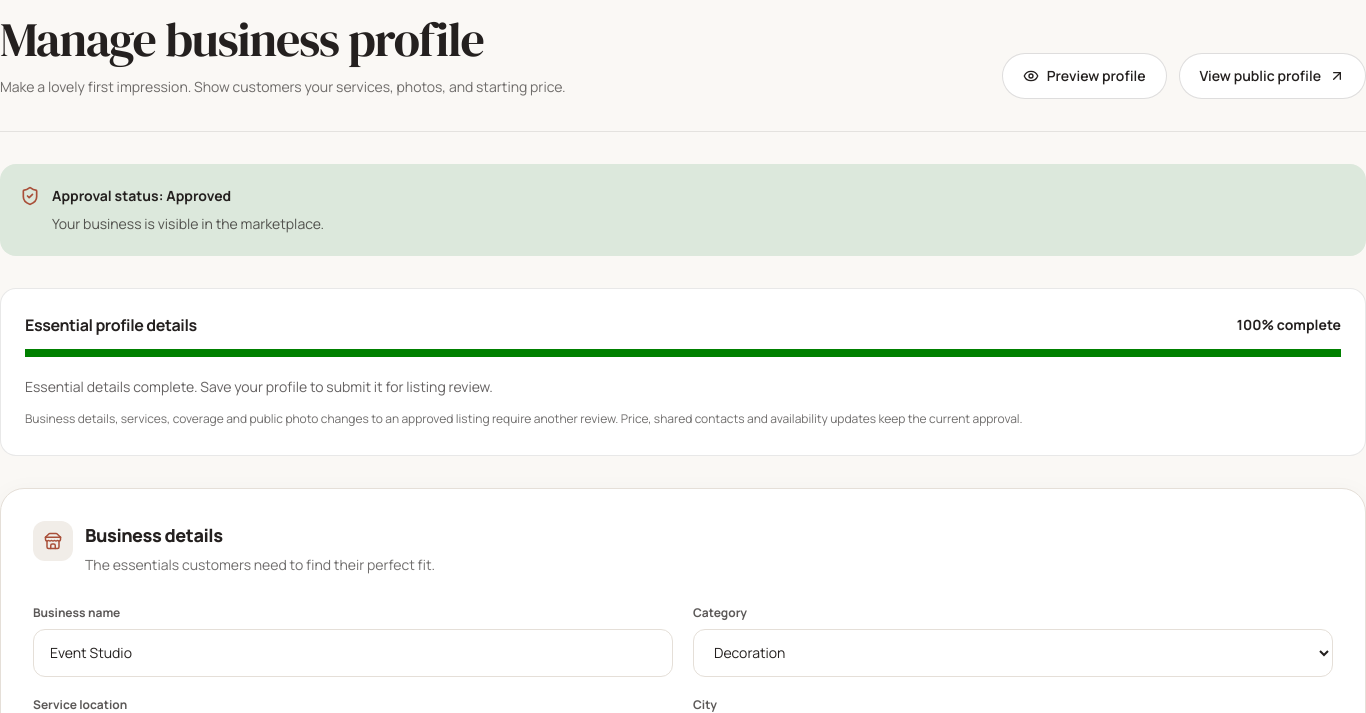
additional marketplace service categories › lets an existing vendor change their category to Reel Creator & Editor
Select "Reel Creator & Editor" in the dropdown labelled "Category" at [1013, 652], box x1=693 y1=628 x2=1333 y2=676
(page scrolled)
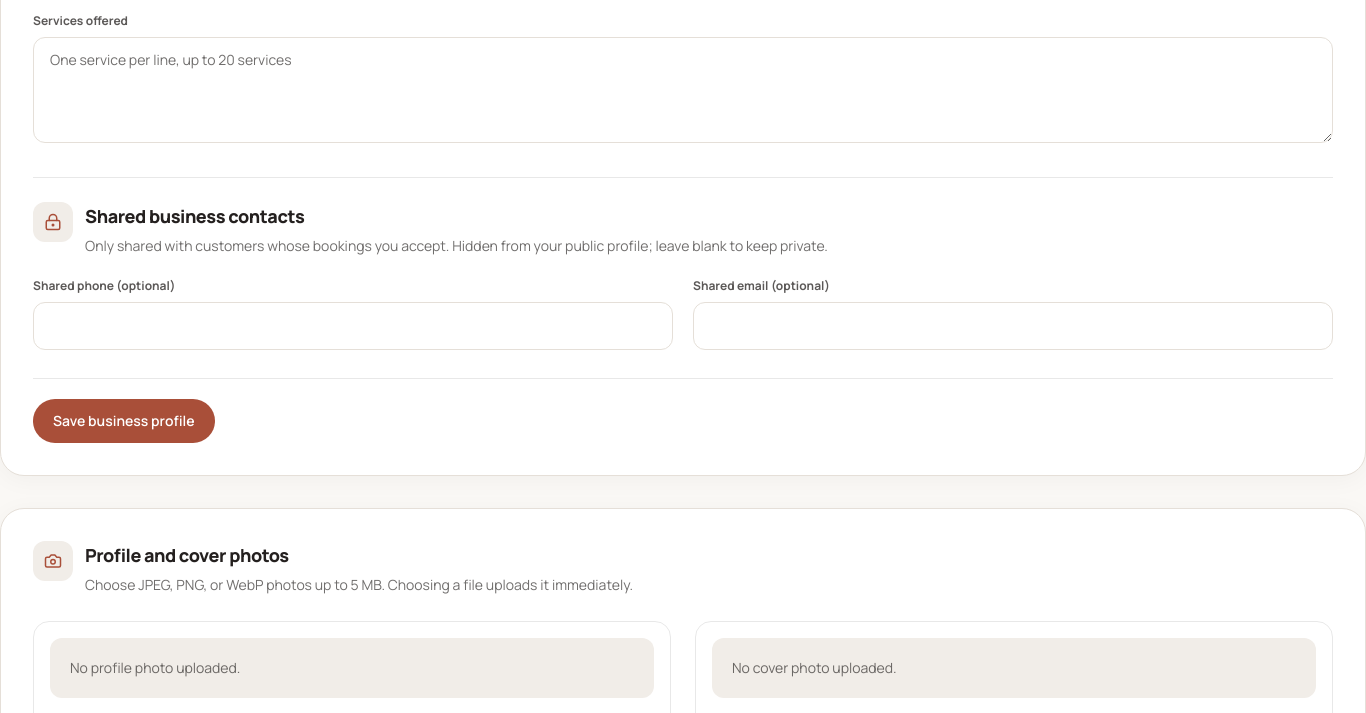
Click the button "Save business profile" at [124, 420], box x1=33 y1=398 x2=215 y2=442
(page scrolled)
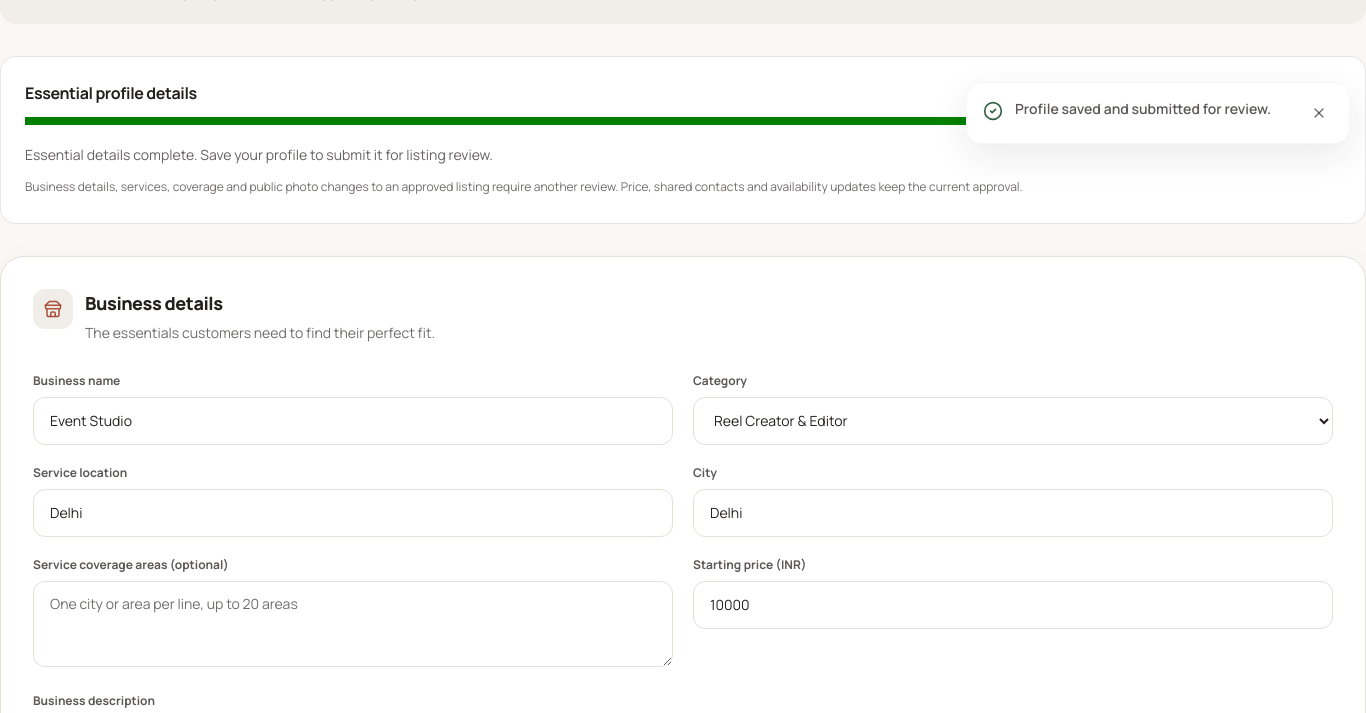
Check: the text "Profile saved and submitted for review." is shown, box x1=1015 y1=99 x2=1285 y2=119
